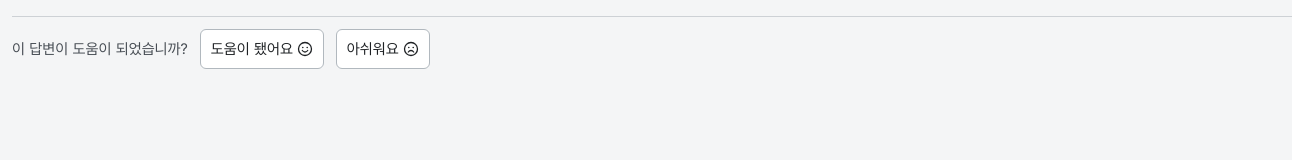
Test: ① 답변 평가(개발서버 AnswerFeedback) › 묻는 줄 · 「도움이 됐어요」 보내면 브라우저에 남아 다시 그려도 「평가해 주셔서 고맙습니다」+[바꾸기]
Later steps or results of the test are not shown.
Expected: the text "이 답변이 도움이 되었습니까?" is shown, [12,38,188,60]
Click the button "도움이 됐어요" at (262, 49), box [200,29,324,69]
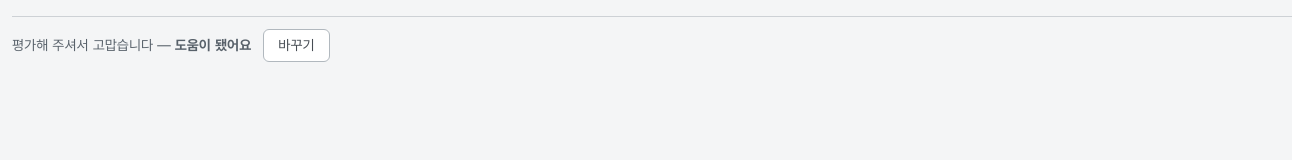
Now the text "평가해 주셔서 고맙습니다 — 도움이 됐어요" is shown, box [12,35,251,56]
